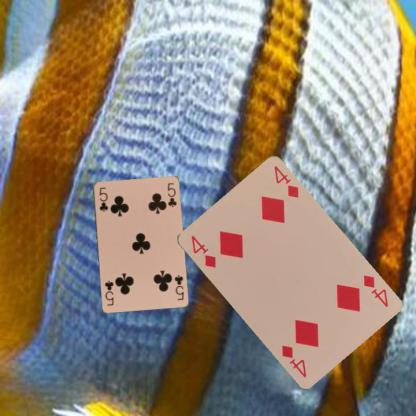4d: (188, 232, 217, 270), (360, 272, 389, 309)
5c: (171, 272, 185, 301), (97, 185, 109, 213)
